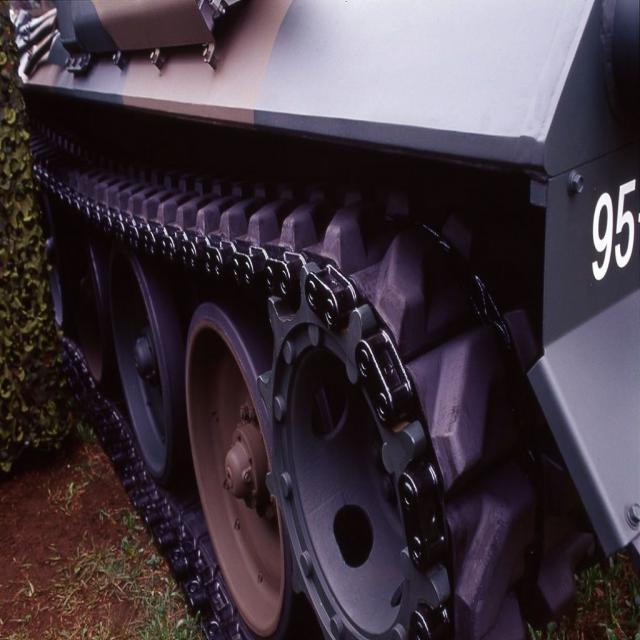tank: (6, 0, 640, 639)
